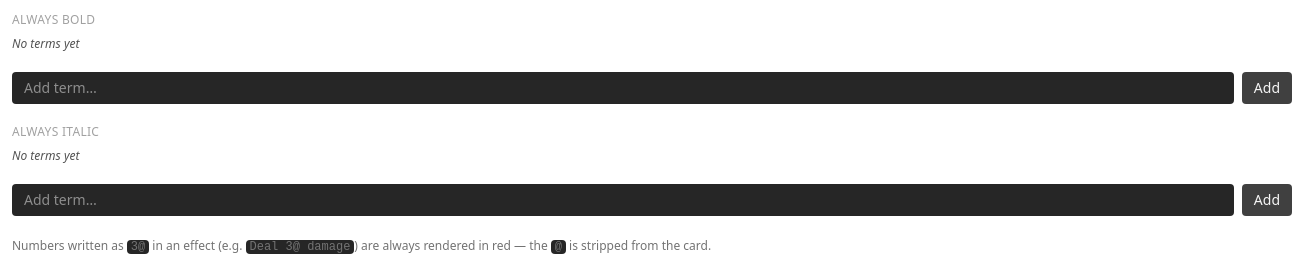
Test: EffectFormattingEditor › renders added italic term as a tag on screen
Type "Haste" into the field with placeholder "Add term…" below "Always Italic" at (623, 200), box [12, 184, 1234, 216]
Then press Enter
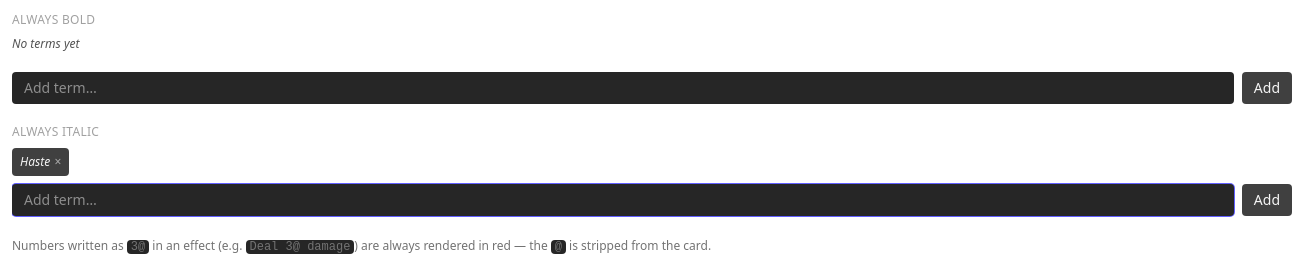
Now the text "Haste" is shown, box [20, 153, 50, 170]
